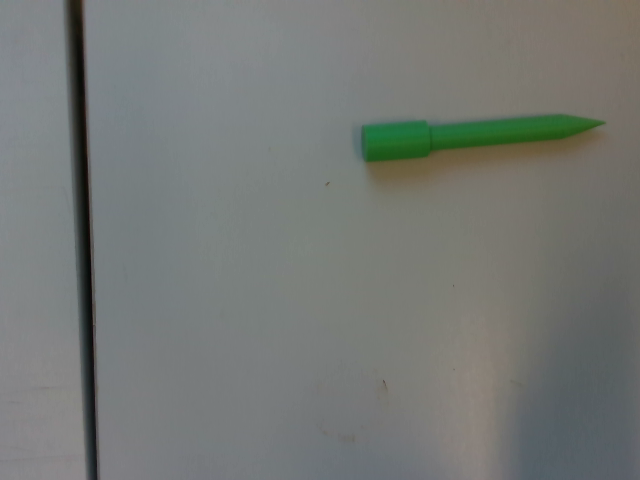Probe: (357, 108, 612, 167)
